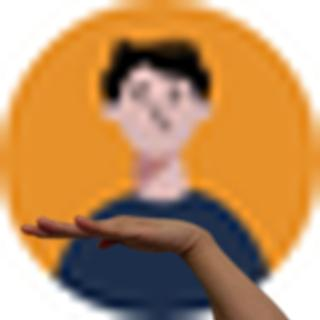WAIT: (14, 209, 203, 259)
